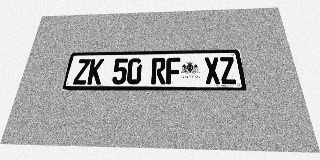0: (126, 58, 142, 84)
5: (112, 58, 128, 84)
F: (166, 57, 181, 84)
K: (87, 59, 104, 84)
R: (151, 58, 166, 84)
X: (204, 57, 221, 84)
Z: (219, 57, 237, 84), (73, 59, 91, 84)
